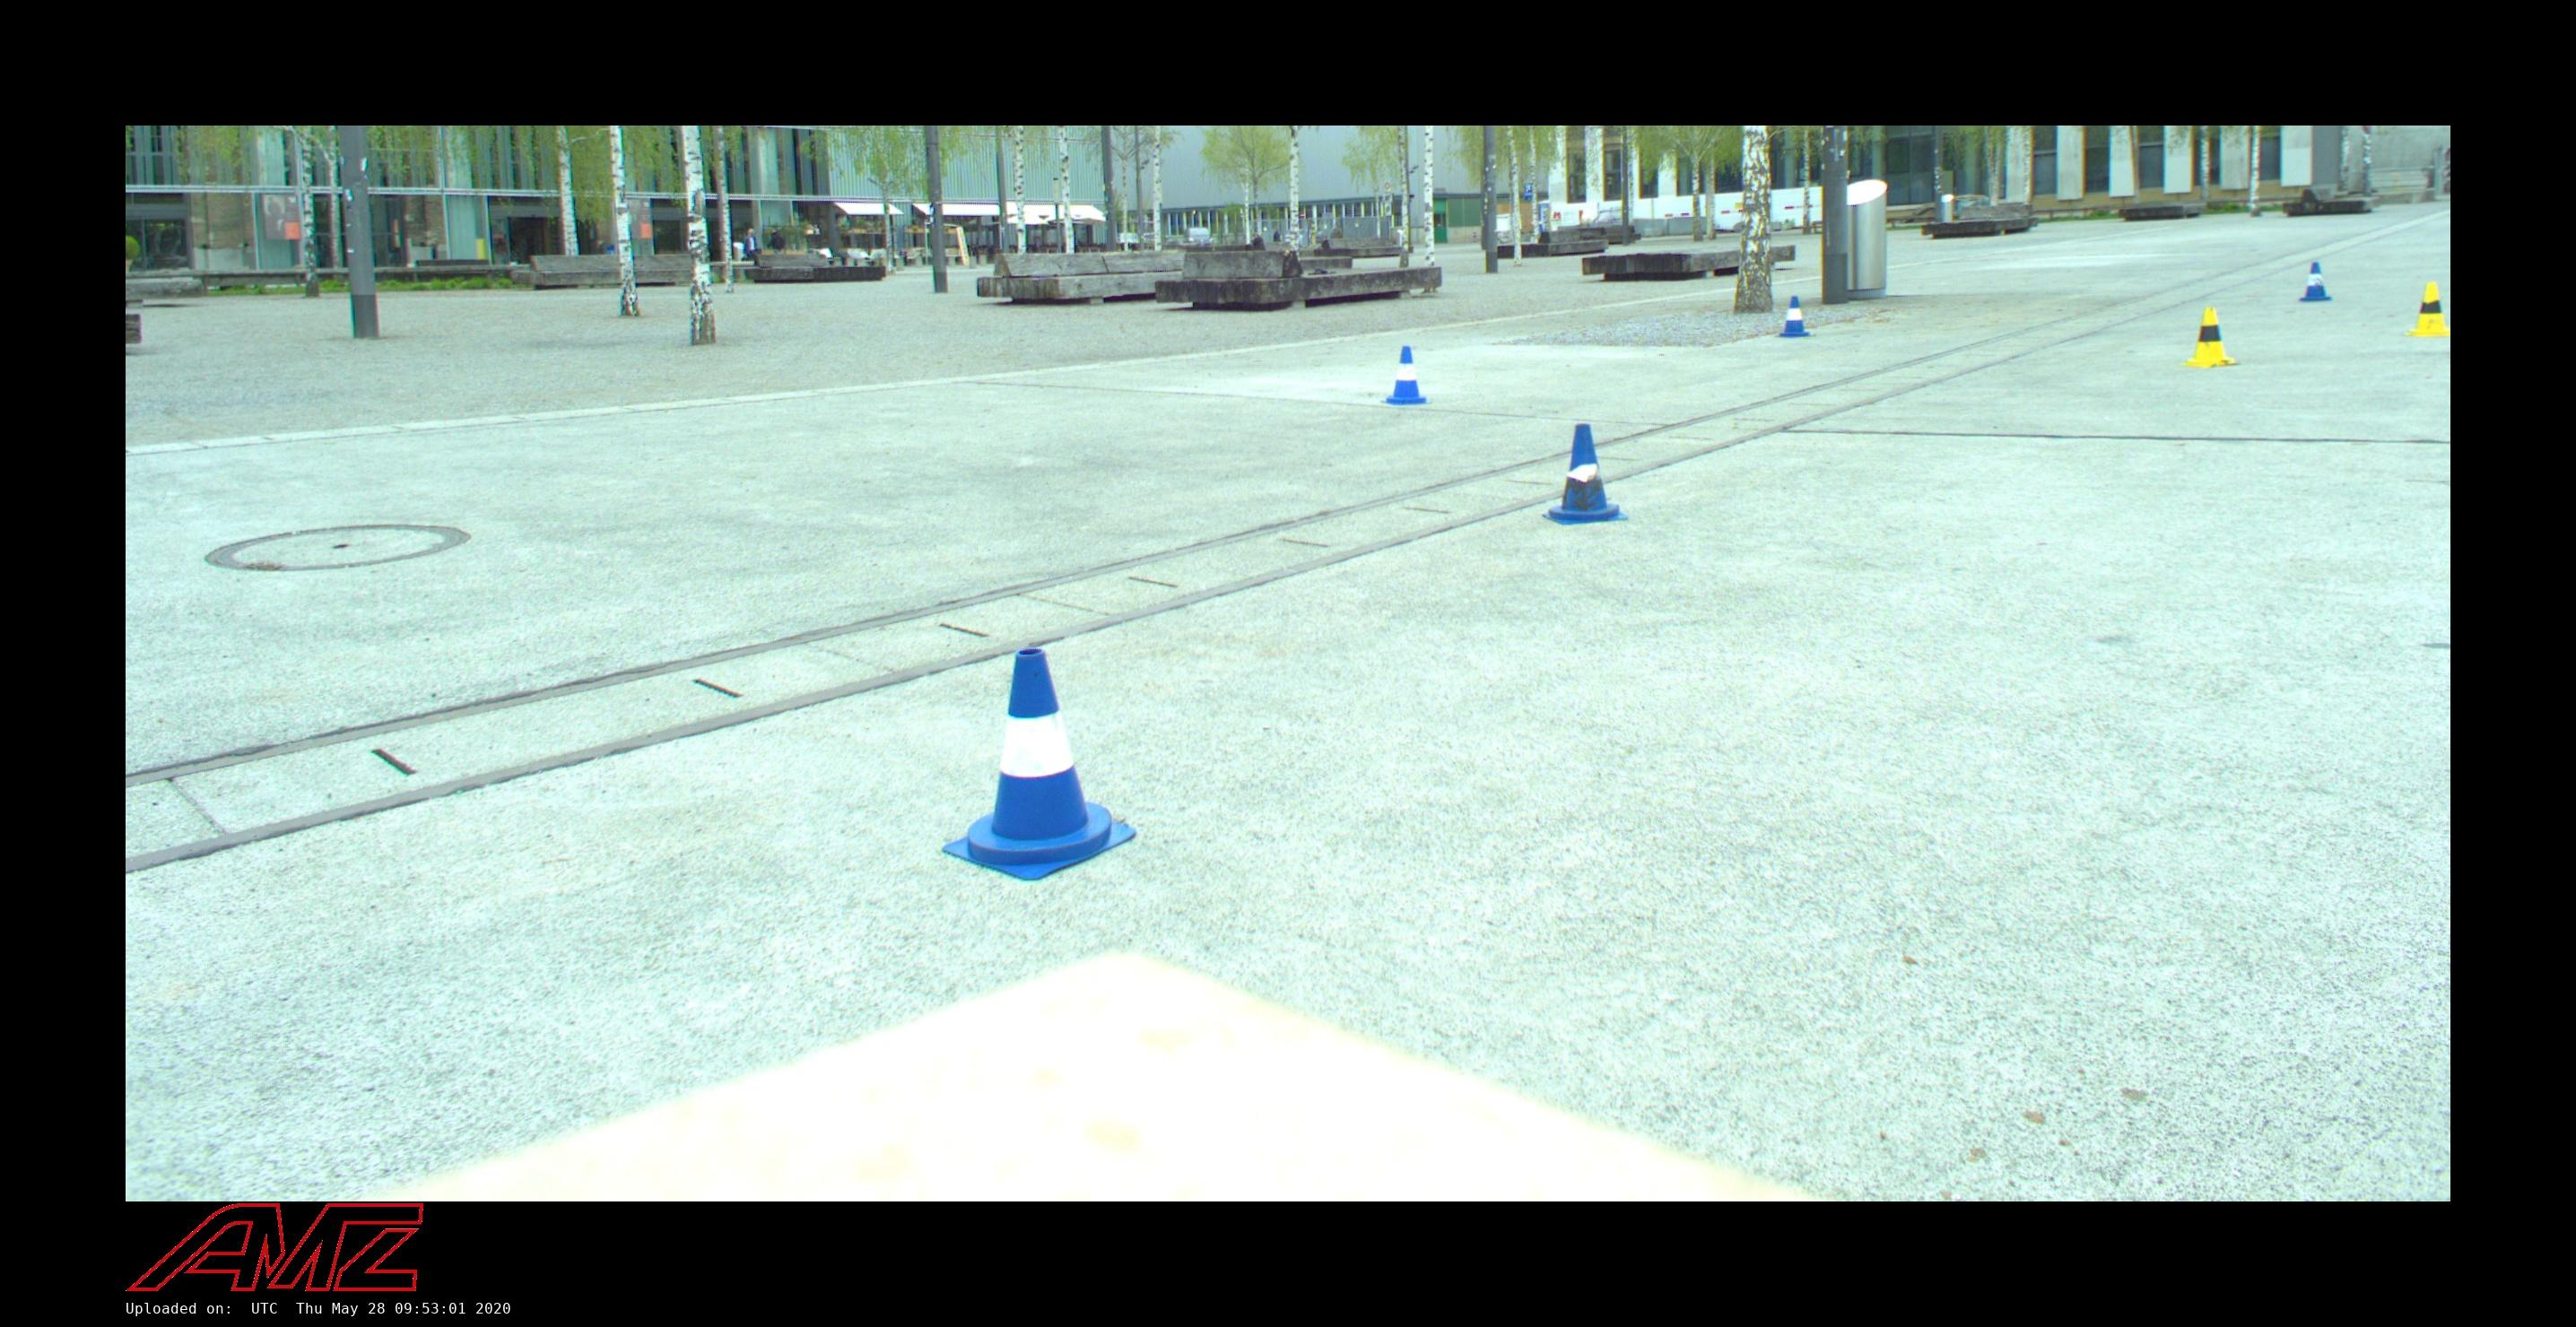blue_cone: (939, 650, 1137, 880), (1544, 425, 1628, 525), (1379, 345, 1432, 406), (1775, 295, 1814, 337), (2295, 262, 2332, 301)
yellow_cone: (2180, 306, 2241, 369), (2405, 281, 2449, 337)
